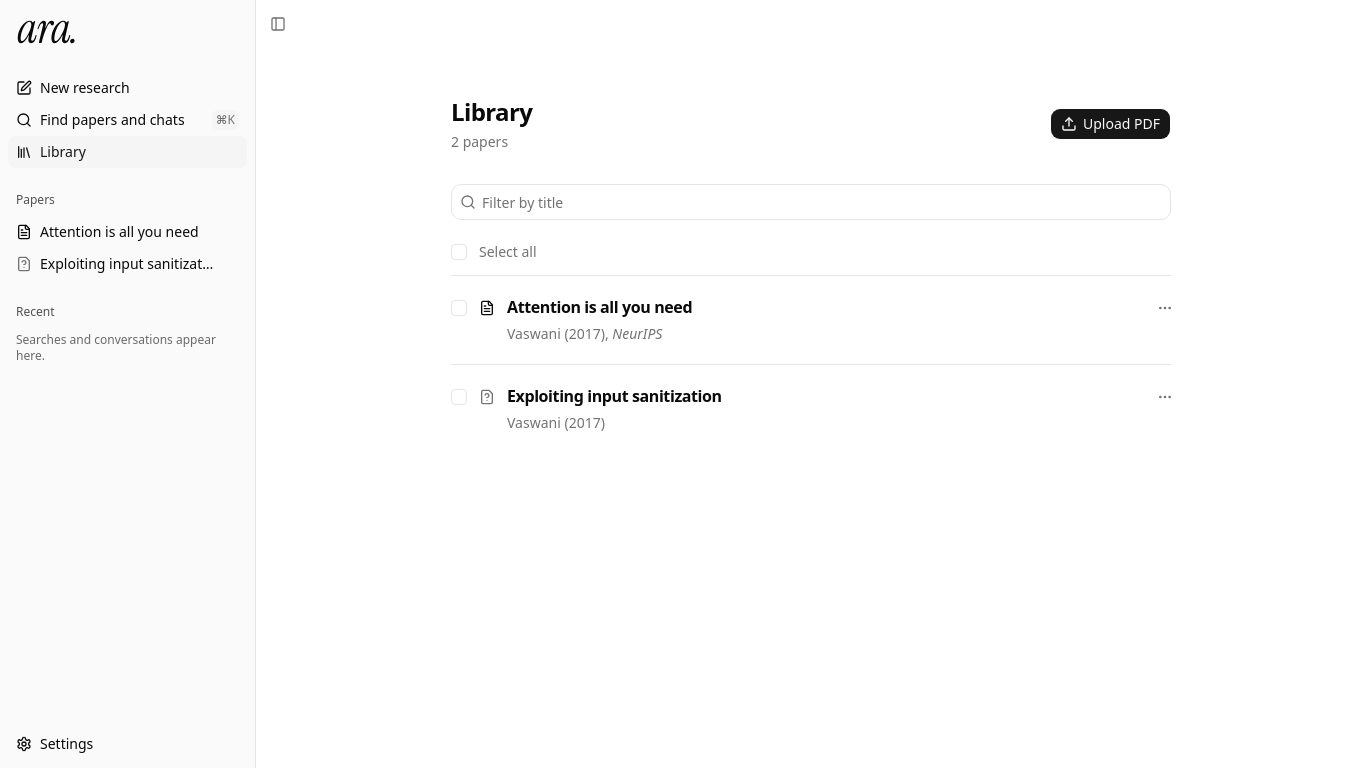
Test case: Given a library row, When Edit details is chosen, Then a dialog edits every field and sends only what changed
The image size is (1366, 768).
Click the button named "Actions for “Attention is all you need”": {"x": 1165, "y": 308} left=1151, top=294, right=1179, bottom=322
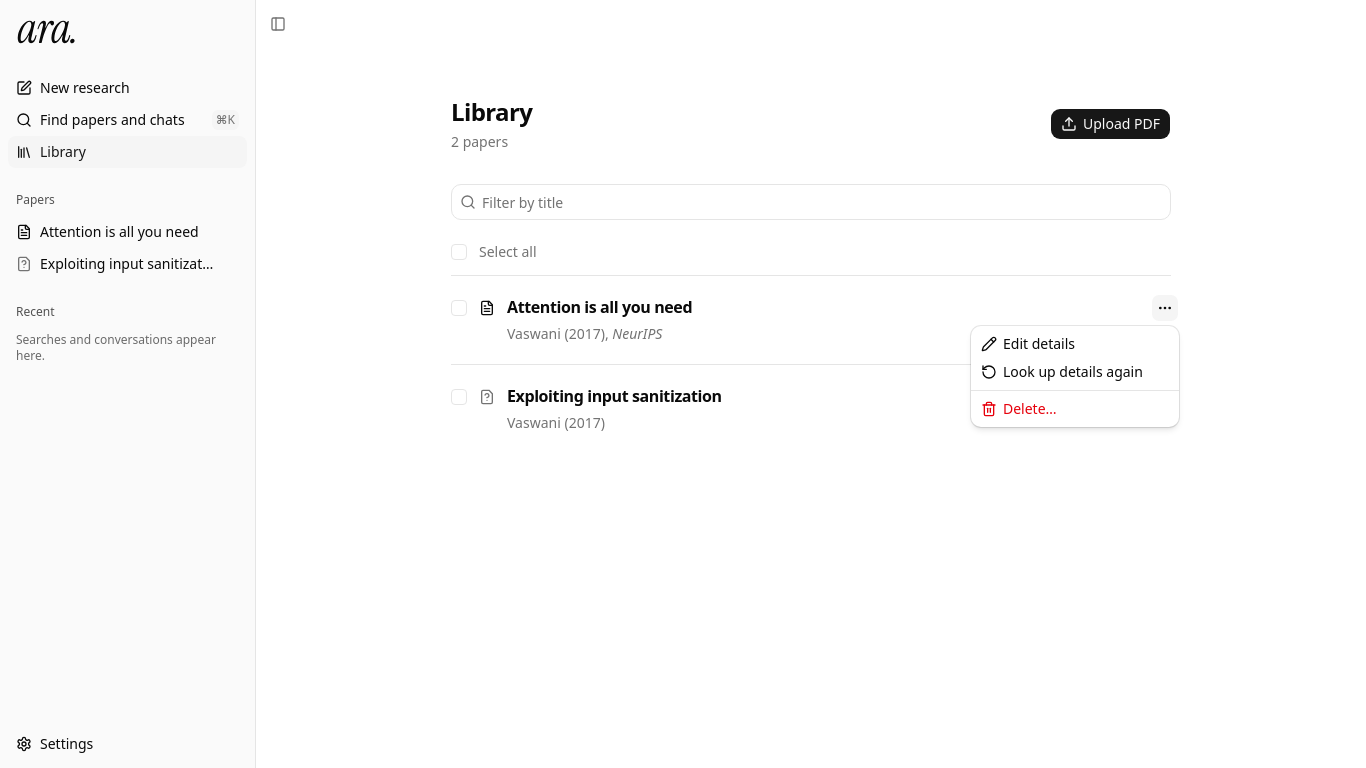
Click the menu item "Edit details": {"x": 1028, "y": 344} left=981, top=334, right=1075, bottom=353
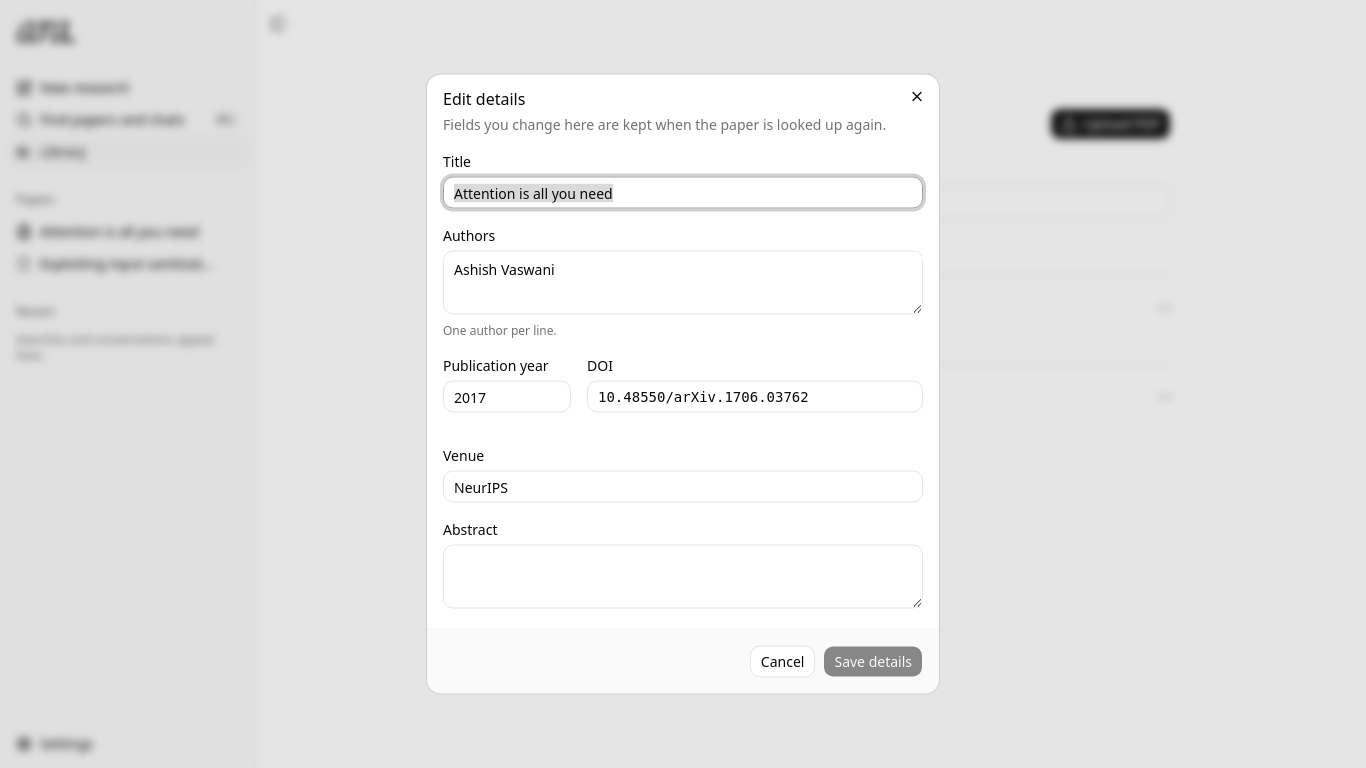
Expected: the field labelled "Title" is shown, left=443, top=176, right=923, bottom=208
Expected: the text box labelled "Authors" is shown, left=443, top=250, right=923, bottom=314
Expected: the field labelled "Publication year" is shown, left=443, top=380, right=571, bottom=412
Replace the text in the field labelled "Venue" with "NeurIPS 2017": {"x": 683, "y": 486} left=443, top=470, right=923, bottom=502
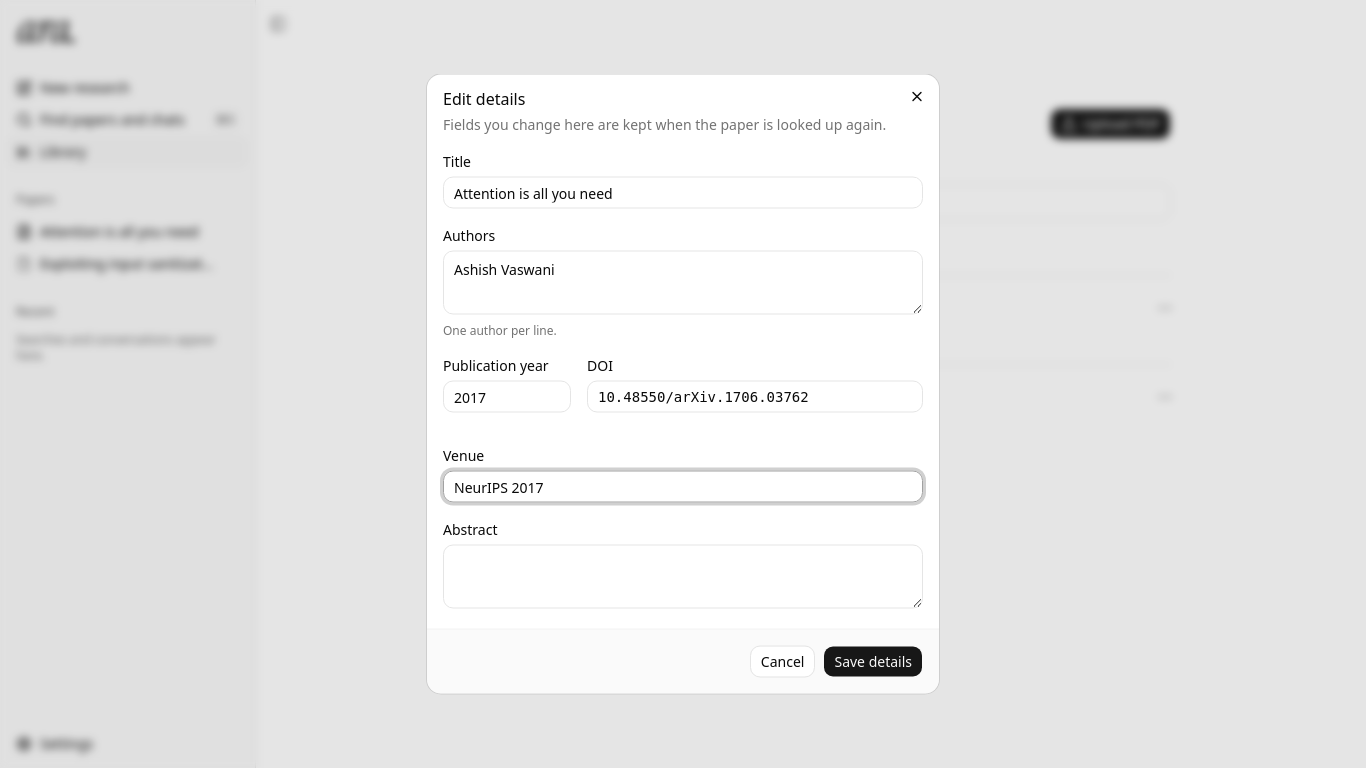
Click the button "Save details": {"x": 873, "y": 662} left=824, top=646, right=923, bottom=678
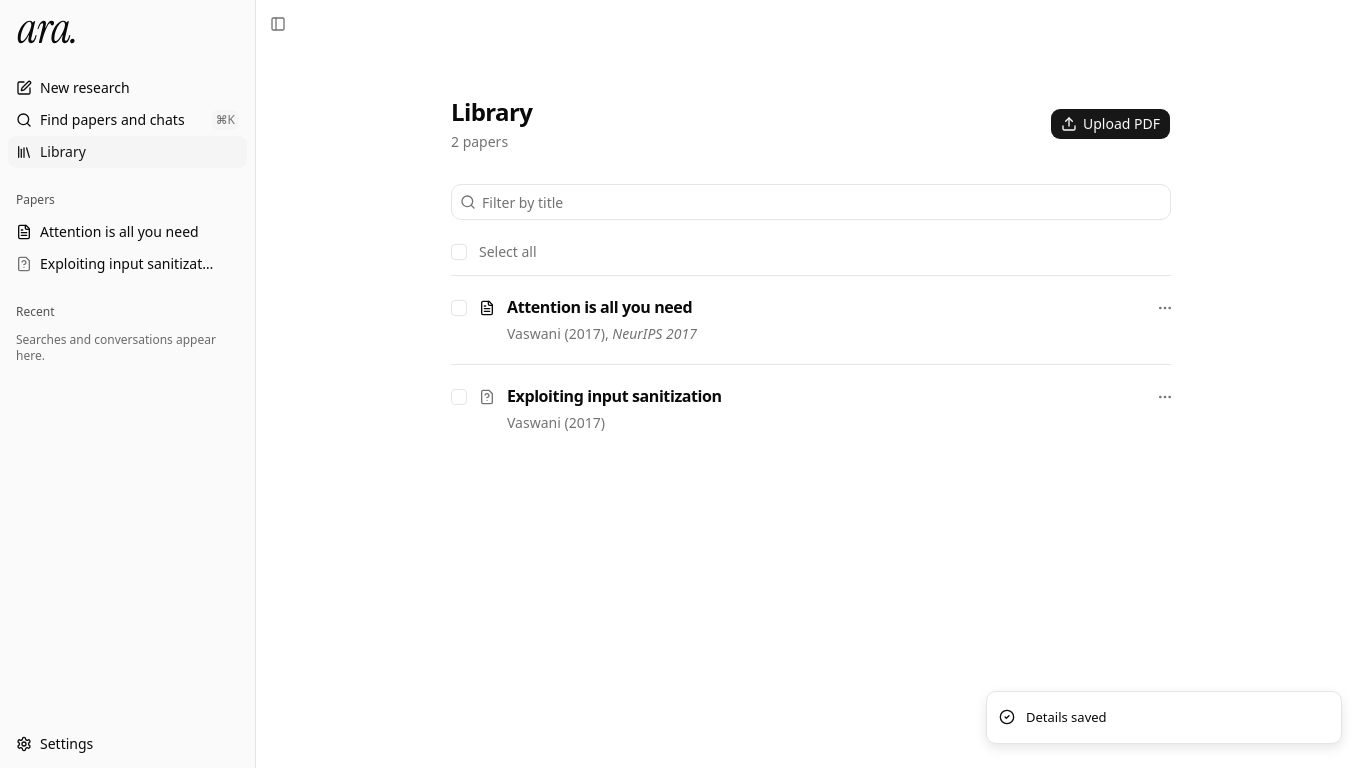
Expected: the dialog is gone
Expected: the text "Details saved" is shown, left=1026, top=708, right=1107, bottom=727
